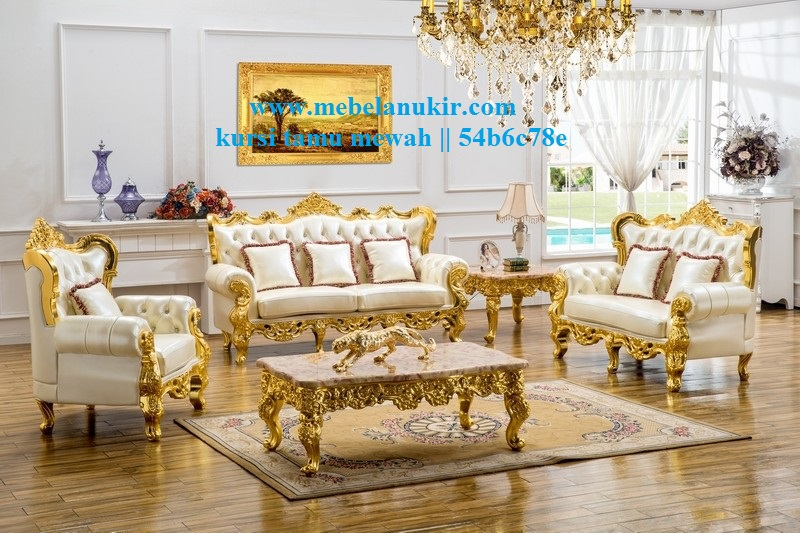Carving Chair: (22, 216, 207, 450), (549, 200, 764, 400), (212, 200, 472, 354)
Carving Table: (252, 335, 536, 482)
